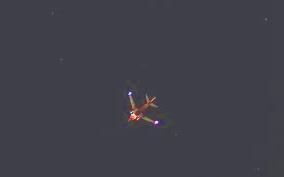Plane: (94, 79, 189, 138)
